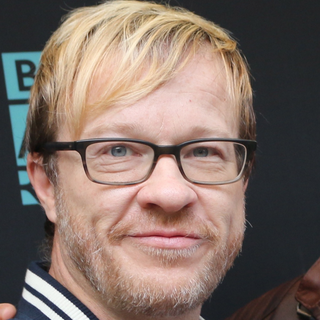eye: (96, 141, 146, 167), (182, 144, 225, 165)
